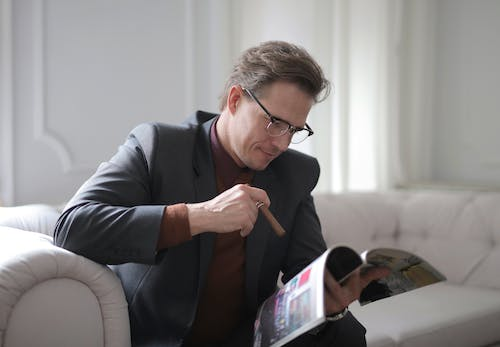cigarette: (244, 182, 286, 238)
